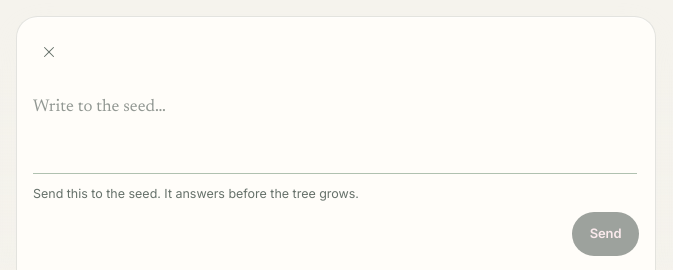
Test case: voice capture › keeps typing available when dictation is missing
The width and height of the screenshot is (673, 270).
Expected: the button "Send" is disabled, [572,212,639,256]
Type "I noticed the room get quiet." into the text box named "Journal entry" at (335, 135), box [33,95,637,174]
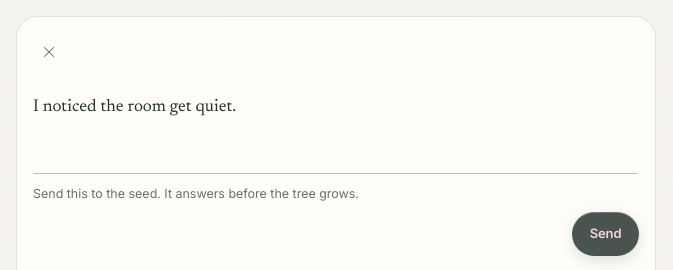
Result: the button "Send" is enabled at [572,212,639,256]
